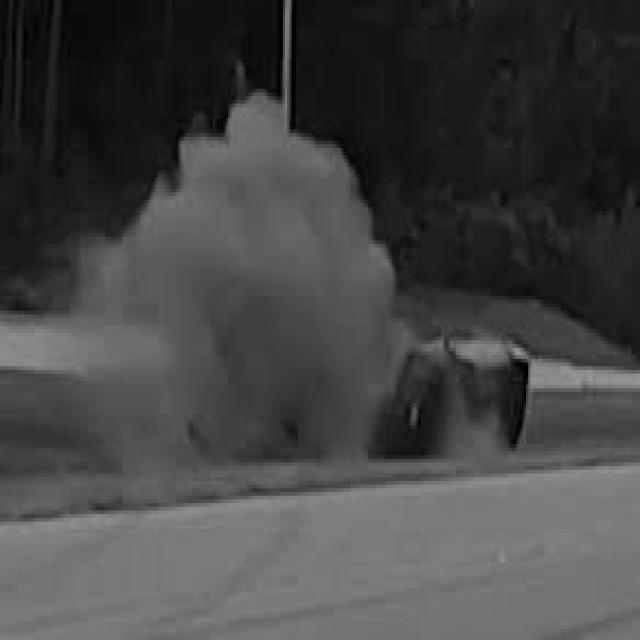accident: (387, 326, 532, 456)
